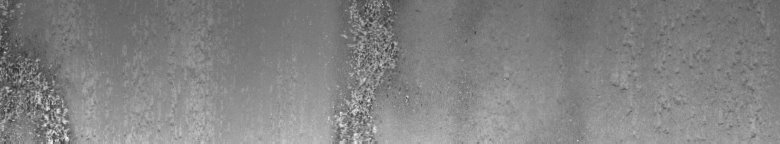hc: (4, 7, 68, 136)
